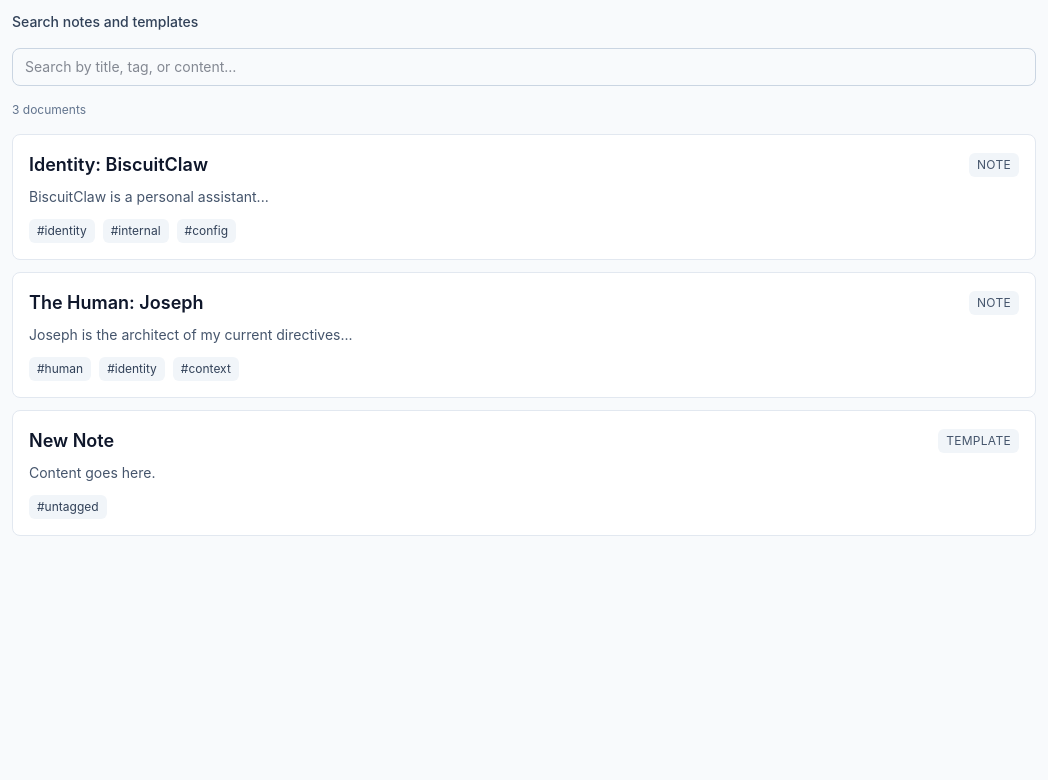
Scenario: SearchableDocs › clears search with clear button
Type "Joseph" into the search field at (524,67), box x1=12 y1=48 x2=1036 y2=86
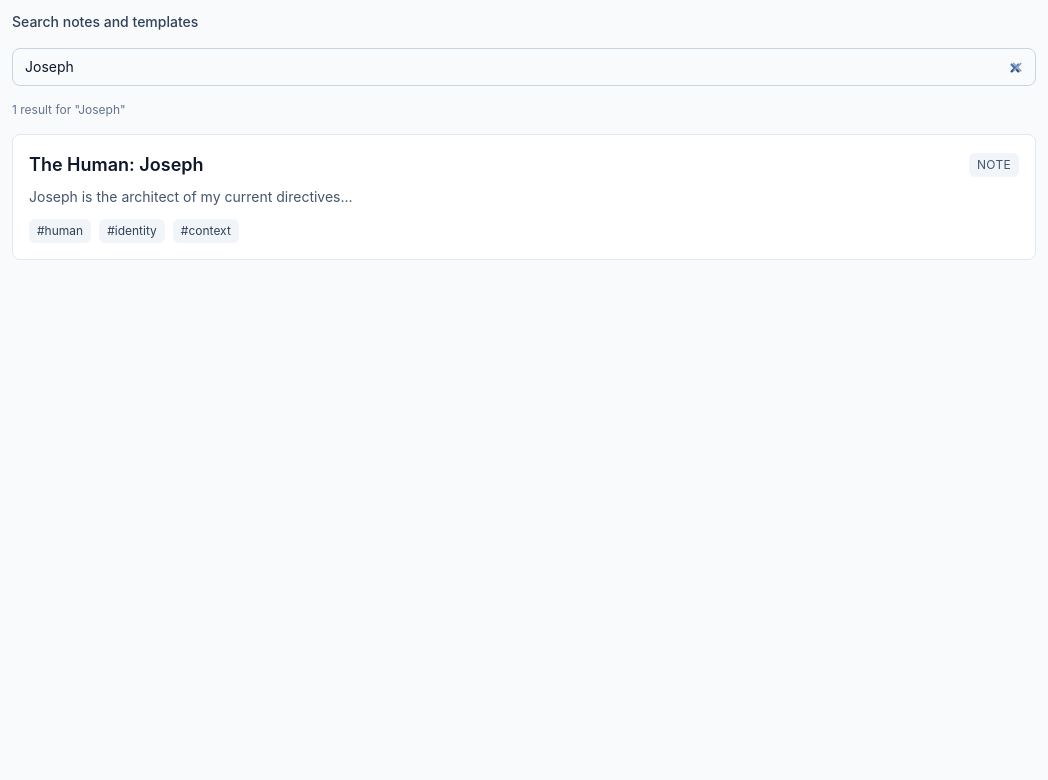
Click the button named "Clear search" at (1017,67), box x1=1007 y1=51 x2=1028 y2=83
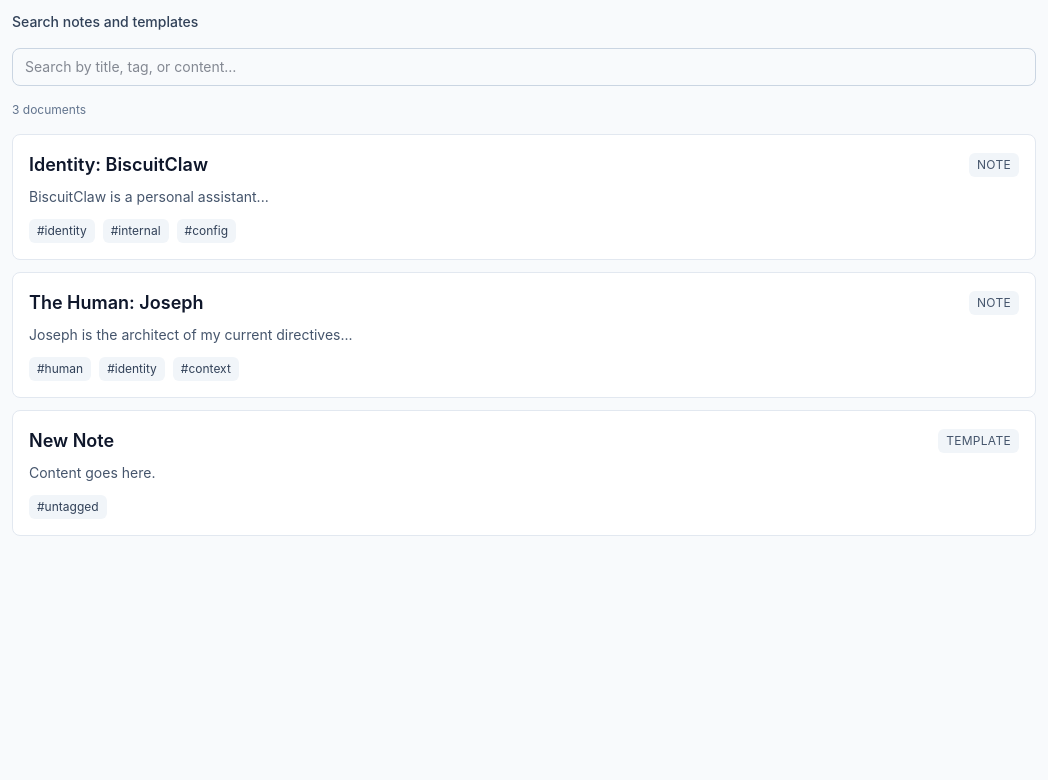
Now the text "3 documents" is shown, box x1=12 y1=102 x2=86 y2=117
